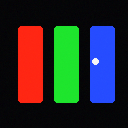0 point: (92, 58, 98, 64)
